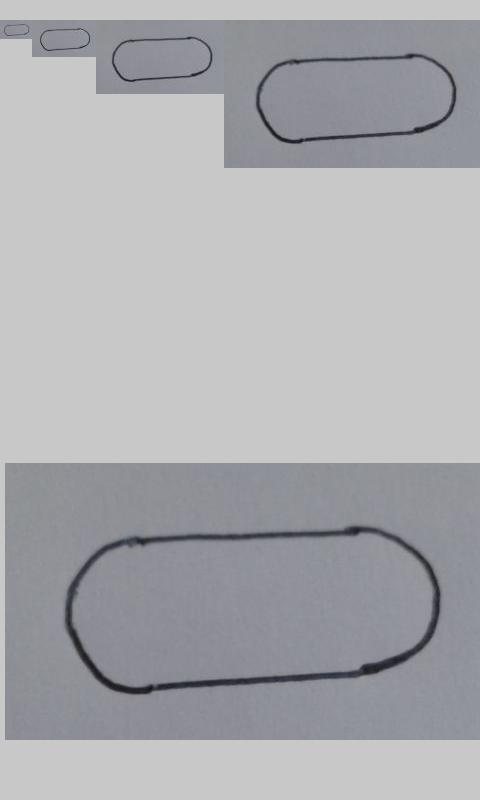chip: (64, 524, 443, 694), (255, 52, 458, 145), (112, 36, 213, 82), (40, 28, 91, 52), (4, 24, 30, 36)
